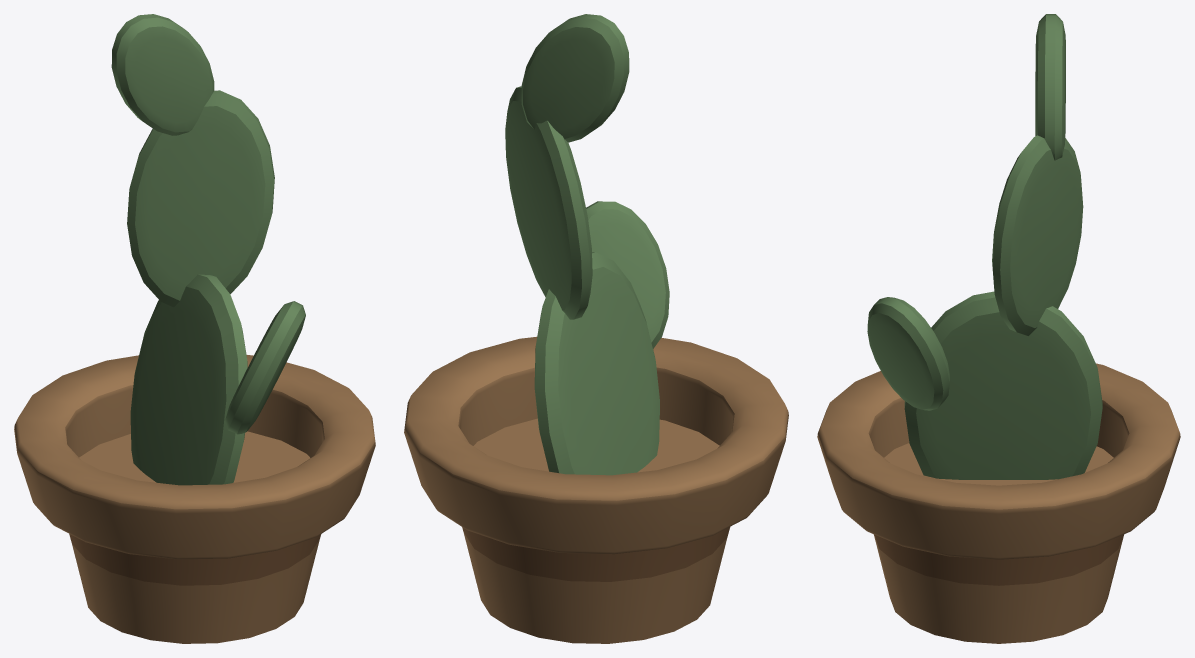
File: 01cactus2_nieuwestijl.fbx
The picture shows the model from 3 angles, left to right: view 1: azimuth 30°, elevation 25°; view 2: azimuth 150°, elevation 25°; view 3: azimuth 270°, elevation 25°; orthographic projection. The views are drawn at different scales.
Parts seen in each view (by area): view 1: pCylinder144; view 2: pCylinder144; view 3: pCylinder144.
Part boxes in pixels (<box>): pCylinder144: <box>14,14,375,643</box>; pCylinder144: <box>404,14,788,643</box>; pCylinder144: <box>817,14,1180,643</box>.
Size of the model in its own units: 1.19 by 2.05 by 1.19.
